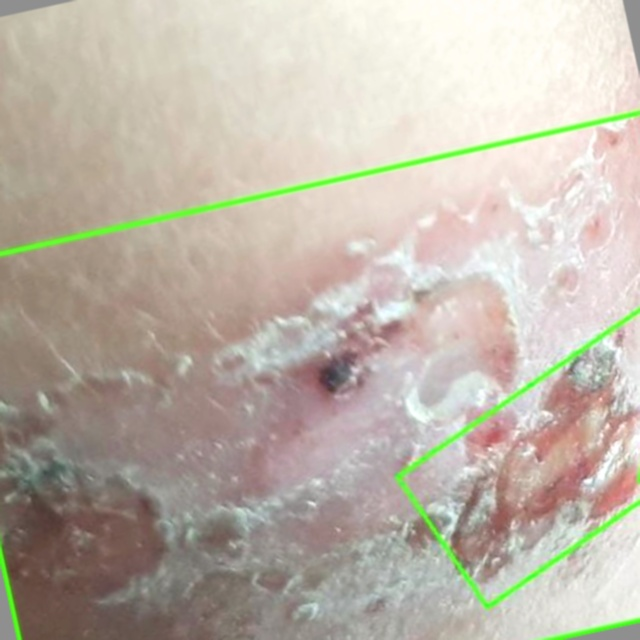Contact Dermatitis: (0, 114, 639, 639), (387, 281, 639, 608)
